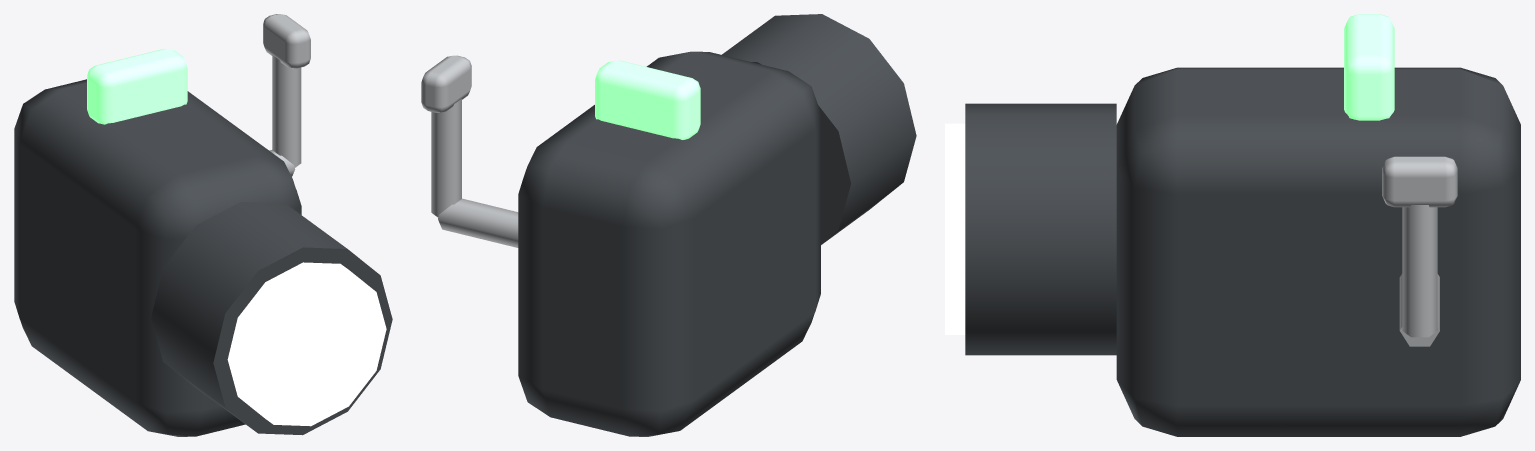
Rendered from fps-survival-forest-outpost-hand-crank-torch-c8dc334e__32678.glb.
The picture shows the model from 3 angles, left to right: view 1: azimuth 30°, elevation 25°; view 2: azimuth 150°, elevation 25°; view 3: azimuth 270°, elevation 25°; orthographic projection. The views are drawn at different scales.
Parts seen in each view (by area): view 1: hand-crank-torch, crank; view 2: hand-crank-torch, crank; view 3: hand-crank-torch, crank.
Part boxes in pixels (<box>): hand-crank-torch: <box>14,49,392,436</box>; crank: <box>263,14,310,176</box>; hand-crank-torch: <box>518,14,916,436</box>; crank: <box>421,55,518,247</box>; hand-crank-torch: <box>945,14,1520,436</box>; crank: <box>1382,156,1457,346</box>.
Size of the model in its own units: 0.152 by 0.165 by 0.228.
